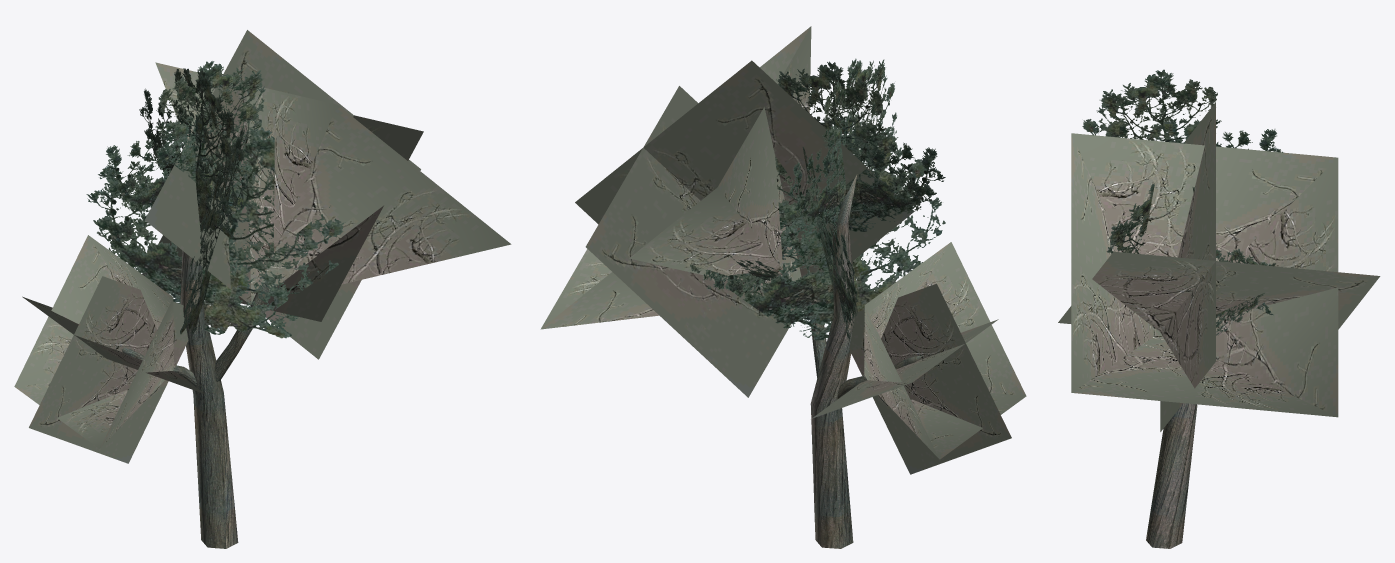
Rendered from ever_torreypinetree_a3_l0.fbx.
The picture shows the model from 3 angles, left to right: view 1: azimuth 30°, elevation 25°; view 2: azimuth 150°, elevation 25°; view 3: azimuth 270°, elevation 25°; orthographic projection. The views are drawn at different scales.
Visible parts, largest first — view 1: mesh_node; view 2: mesh_node; view 3: mesh_node.
Part boxes in pixels (x1,y1,x2,y2): mesh_node: [14, 30, 511, 548]; mesh_node: [540, 26, 1026, 548]; mesh_node: [1058, 69, 1380, 548].
Bounding box in the file's own units: 2.78 × 2.99 × 1.88.
